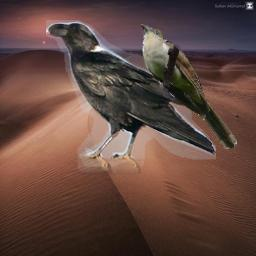Crow: (46, 20, 216, 174)
Cuckoo: (141, 24, 237, 149)
